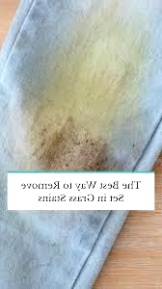earth: (27, 33, 143, 169)
